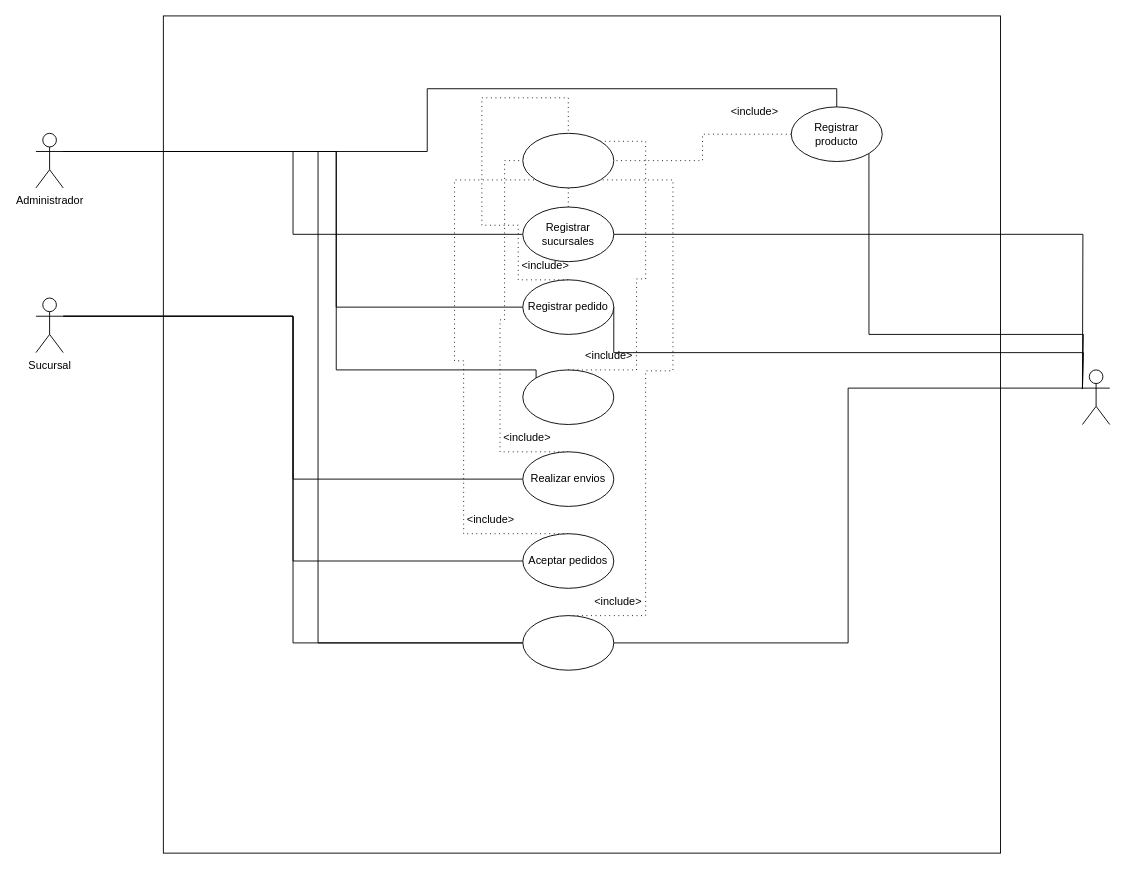
Image size: 1126x869. Some labels were removed from this diagram. The shapes that lost their labels are listed below. From the top down, each one's centre as x and y in pixels, then its label:
At [568,160]: "Iniciar Sesión".
At [568,397]: "Informar envío realizado".
At [1096,397]: "BD".
At [568,642]: "Ver pedidos".
